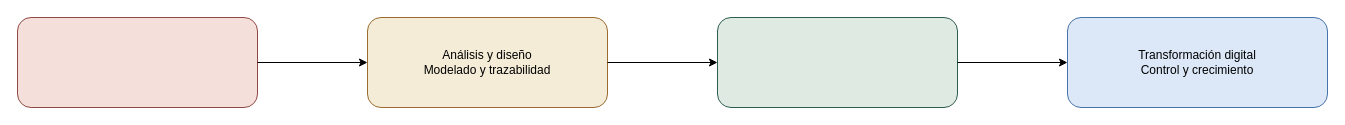
Some shapes in this 1345 by 125 pixel diagram are drawn without their labels. The box of each missing label's shape, as (x1, y1, x2, y2) in pixels:
Implementación futura Sistema modular: (716, 16, 958, 108)
Situación actual Procesos manuales: (16, 16, 258, 108)
